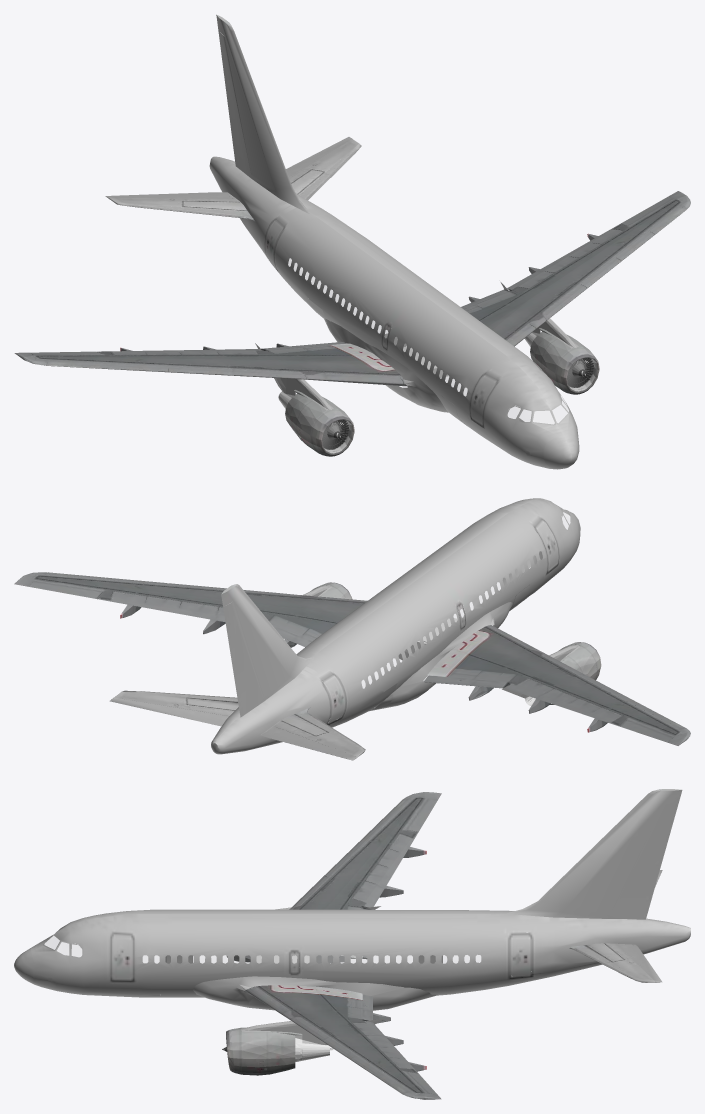
3 views of the same model, one above another, from view 1: azimuth 30°, elevation 25°; view 2: azimuth 150°, elevation 25°; view 3: azimuth 270°, elevation 25° (orthographic). The views are drawn at different scales.
Parts seen in each view (by area): view 1: Rudder, EngineL, blades, CockpitWindows; view 2: Rudder, EngineL, blades, CockpitWindows; view 3: Rudder, EngineL, blades, CockpitWindows.
Part boxes in pixels (left/top/right/bottom): Rudder: left=209, top=14, right=579, bottom=469; EngineL: left=14, top=137, right=690, bottom=456; blades: left=255, top=282, right=597, bottom=453; CockpitWindows: left=288, top=258, right=568, bottom=423; Rudder: left=211, top=498, right=580, bottom=754; EngineL: left=14, top=572, right=690, bottom=760; blades: left=283, top=514, right=580, bottom=705; CockpitWindows: left=362, top=510, right=569, bottom=688; Rudder: left=14, top=789, right=690, bottom=1010; EngineL: left=226, top=792, right=662, bottom=1099; blades: left=43, top=906, right=442, bottom=1061; CockpitWindows: left=45, top=936, right=480, bottom=962.
Size of the model in its own units: 33.91 by 11.72 by 31.71.
4 materials, 4 textured.
